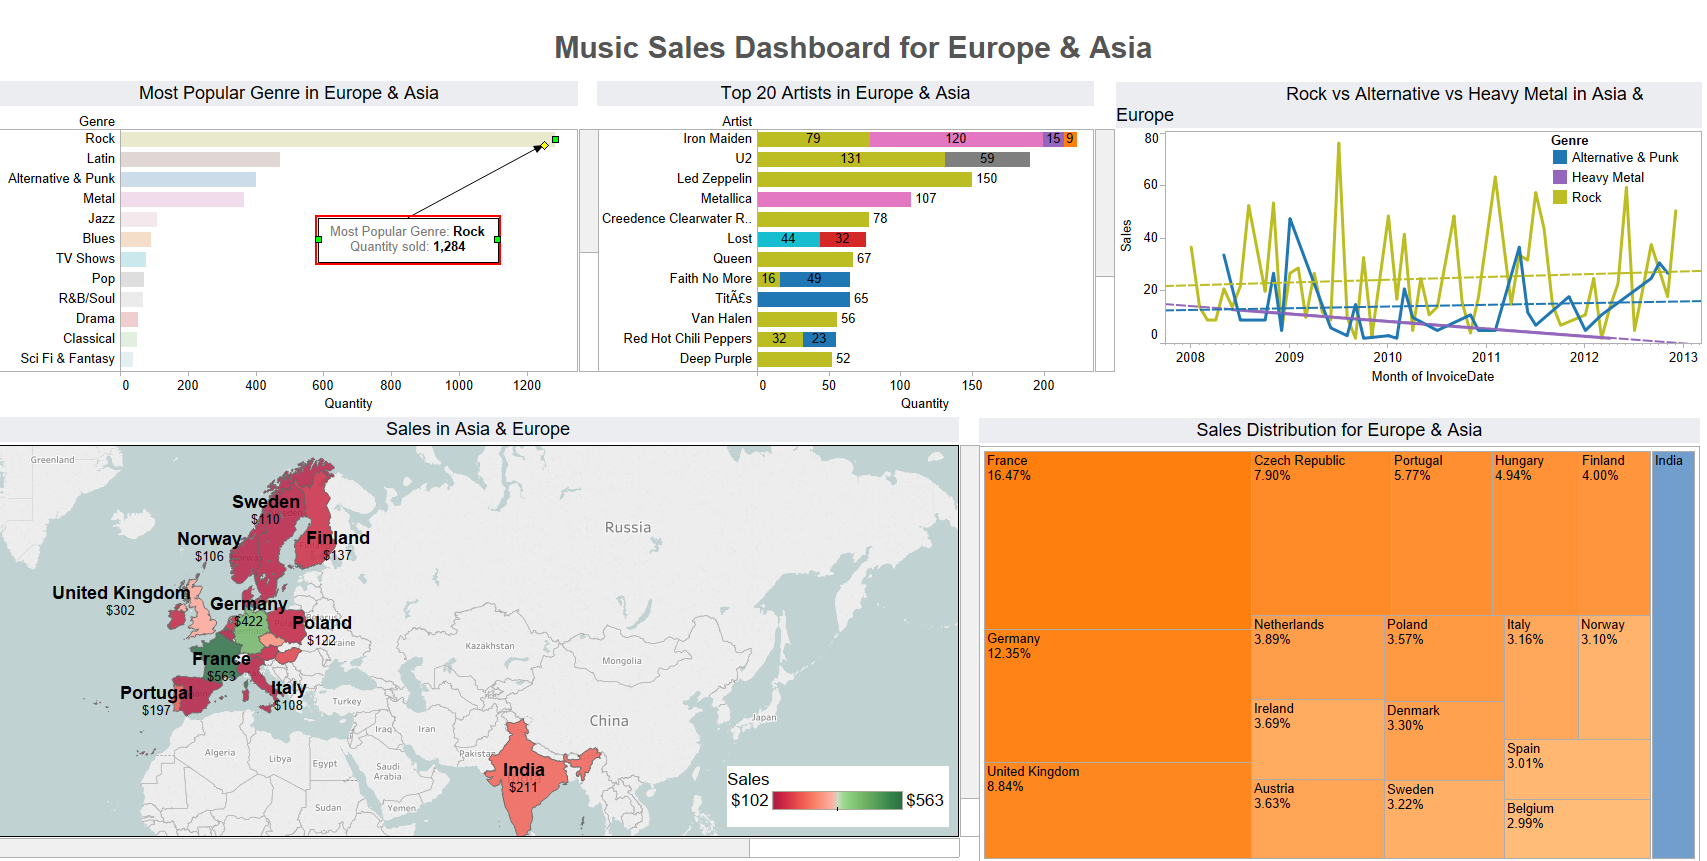

Layout of this report page (visuals, bound fields, positions):
{"tool":"tableau","page":{"name":"Music Sales Dashboard","canvas":[1000,1000],"units":"permille","ordinal":3},"visuals":[{"type":"title","box":[4.7,9.3,990.6,92.9]},{"type":"worksheet","title":"1 - Most Popular Genre","mark":"Automatic","rows":["Genre"],"cols":["Quantity"],"box":[0,94.1,350.9,387.9]},{"type":"worksheet","title":"2 - Top 20 Artists","mark":"Automatic","rows":["Artist"],"cols":["Quantity"],"box":[349.7,94.1,303.5,387.9]},{"type":"worksheet","title":"5- Rock vs Alt vs Heavy Metal","mark":"Automatic","rows":["Calculation_1800807123004051"],"cols":["InvoiceDate"],"box":[653.8,95.2,343.3,355.4]},{"type":"legend","title":"5- Rock vs Alt vs Heavy Metal","param":"[excel.41483.051647499997].[none:Genre:nk]","box":[908,152.2,82.6,89.4]},{"type":"worksheet","title":"3 - Sales Distribution by Region","mark":"Automatic","box":[573.5,485.5,424.7,518]},{"type":"legend","title":"4 - Sales by Geography","param":"[excel.41483.051647499997].[sum:Calculation_1800807123004051:qk]","box":[425.9,889.7,130.1,70.9]}]}

Visuals, with their boxes on the dashboard's canvas, which has no fixed pixel size, in thousandths of its width and height (x1, y1, x2, y2). These are canvas units, not pixel positions in the 1707x861 screenshot, which may show the page scaled, cropped or inside an application window:
title: select_region(5, 9, 995, 102)
"1 - Most Popular Genre" worksheet: select_region(0, 94, 351, 482)
"2 - Top 20 Artists" worksheet: select_region(350, 94, 653, 482)
"5- Rock vs Alt vs Heavy Metal" worksheet: select_region(654, 95, 997, 451)
"5- Rock vs Alt vs Heavy Metal" legend: select_region(908, 152, 991, 242)
"3 - Sales Distribution by Region" worksheet: select_region(574, 486, 998, 1004)
"4 - Sales by Geography" legend: select_region(426, 890, 556, 961)
